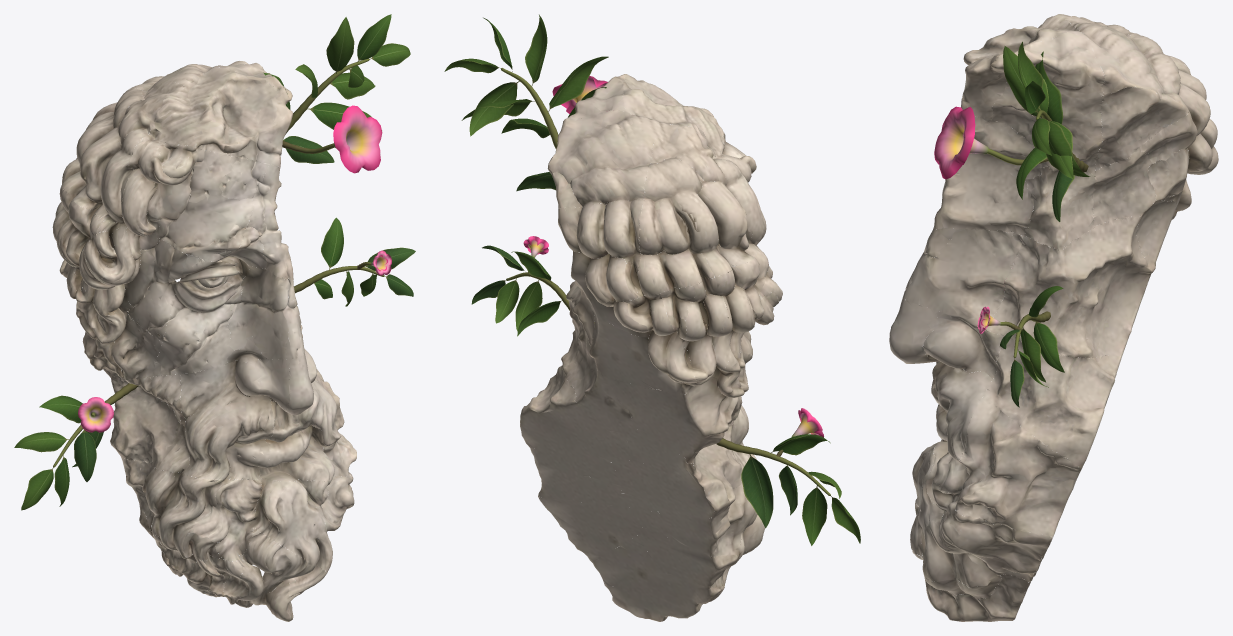
File: hero-bust.glb
3 renders of one model, left to right at view 1: azimuth 30°, elevation 25°; view 2: azimuth 150°, elevation 25°; view 3: azimuth 270°, elevation 25°, orthographic. The views are drawn at different scales.
Parts seen in each view (by area): view 1: bust, flower_01, leaf_06, flower_02, leaf_08, leaf_18, leaf_11, leaf_01, leaf_19, leaf_21, leaf_03, leaf_17 (+3 smaller); view 2: bust, leaf_16, leaf_07, leaf_04, leaf_20, leaf_06, branch_03, leaf_12, leaf_14, leaf_17, branch_01, leaf_10 (+1 smaller); view 3: bust, flower_01, leaf_04, leaf_10, leaf_07, leaf_02, leaf_06, leaf_05, leaf_12, leaf_03, leaf_01, leaf_09 (+2 smaller).
Part boxes in pixels (x1,y1,x2,y2): bust: (52,61,356,621); flower_01: (333,105,382,173); leaf_06: (326,17,354,73); flower_02: (78,397,113,432); leaf_08: (357,14,391,62); leaf_18: (74,429,96,481); leaf_11: (321,217,343,269); leaf_01: (283,136,334,163); leaf_19: (14,432,68,452); leaf_21: (21,467,53,510); leaf_03: (307,102,371,129); leaf_17: (39,395,82,423); bust: (520,74,782,621); leaf_16: (741,454,773,528); leaf_07: (469,81,519,136); leaf_04: (548,56,608,111); leaf_20: (802,485,827,545); leaf_06: (525,14,547,86); branch_03: (716,438,830,495); leaf_12: (515,280,542,330); leaf_14: (495,278,519,323); leaf_17: (770,434,830,455); branch_01: (500,68,638,270); leaf_10: (517,300,562,336); bust: (889,14,1218,621); flower_01: (934,106,988,179); leaf_04: (1003,46,1048,117); leaf_10: (1033,321,1064,372); leaf_07: (1041,115,1090,176); leaf_02: (1035,51,1063,124); leaf_06: (1018,41,1043,109); leaf_05: (1046,121,1073,179); leaf_12: (1020,327,1045,382); leaf_03: (1016,147,1047,199); leaf_01: (1052,171,1074,221); leaf_09: (1032,118,1052,155).
Bounding box in the file's own units: 0.7924 × 1.08 × 0.5127.
6 materials, 4 textured.
